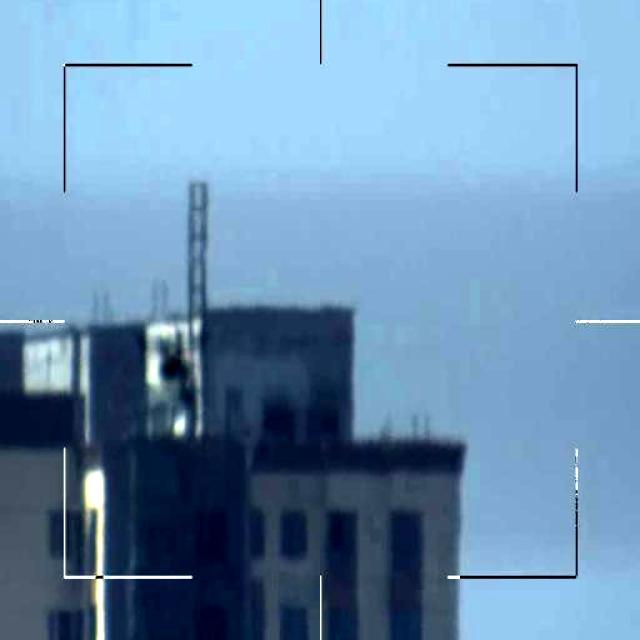bird: (141, 331, 212, 420)
